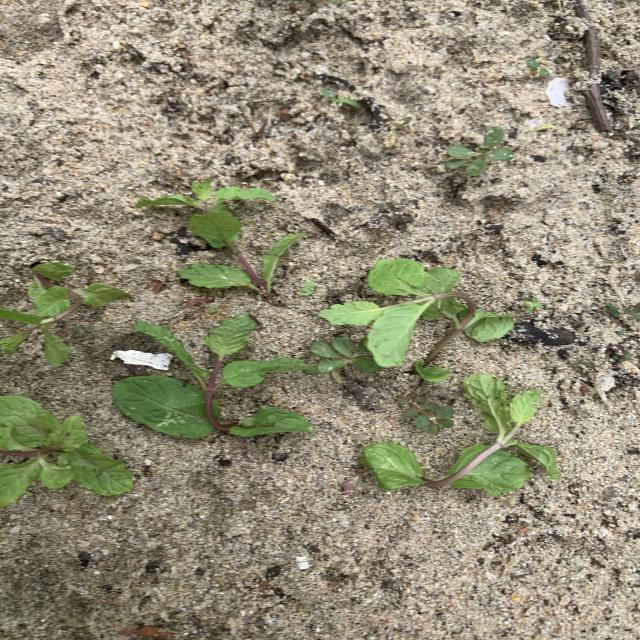crop: (114, 314, 312, 436), (360, 374, 559, 495), (318, 258, 514, 375), (140, 179, 304, 300), (0, 395, 132, 507), (0, 263, 127, 362)
weed: (446, 127, 512, 175), (309, 338, 378, 373), (398, 396, 454, 433), (384, 118, 410, 147), (321, 89, 361, 107), (607, 304, 639, 323), (526, 60, 549, 77), (523, 297, 542, 311), (300, 280, 315, 295), (572, 360, 591, 370), (613, 353, 631, 361), (73, 326, 93, 331)
